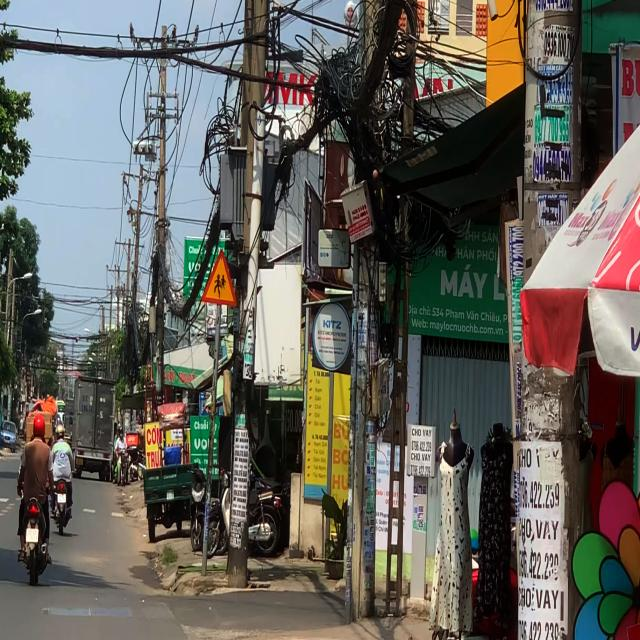Nguy hiem: (201, 248, 237, 308)
